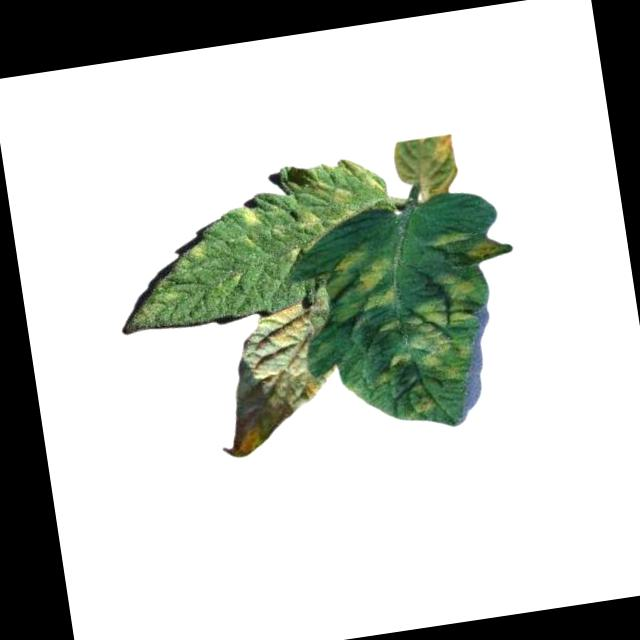Leaf_Mold: (214, 301, 347, 459), (366, 271, 489, 389), (287, 152, 386, 239), (323, 246, 404, 327), (391, 132, 463, 200), (434, 221, 507, 268), (185, 237, 214, 273), (236, 203, 267, 232), (411, 399, 437, 419)
